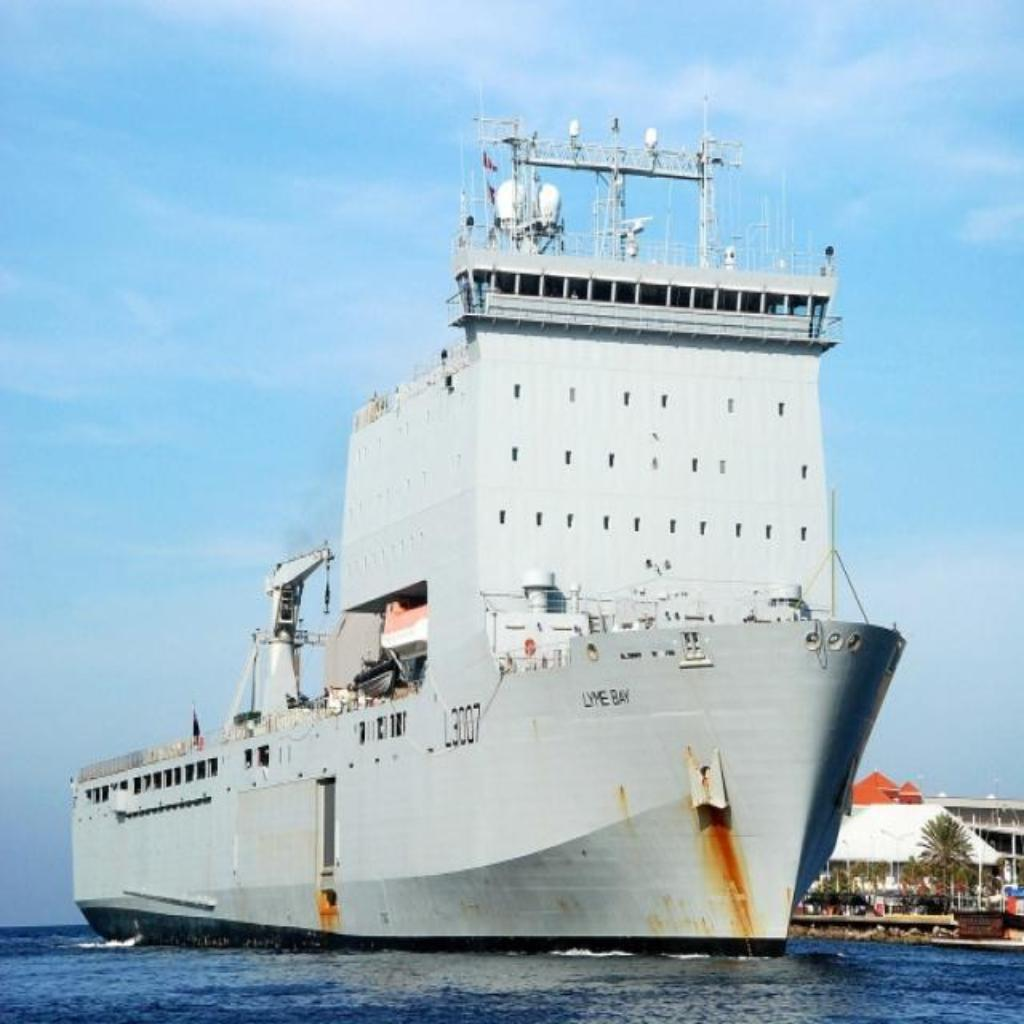Warship: (67, 76, 919, 960)
